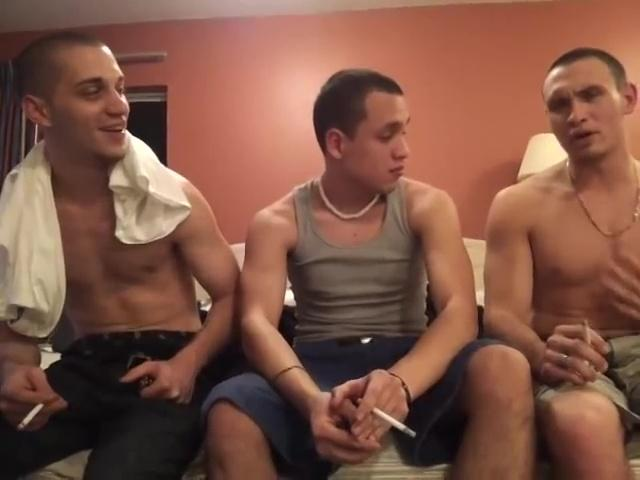cigarette: (371, 405, 419, 440), (15, 398, 44, 433), (580, 319, 596, 351)
